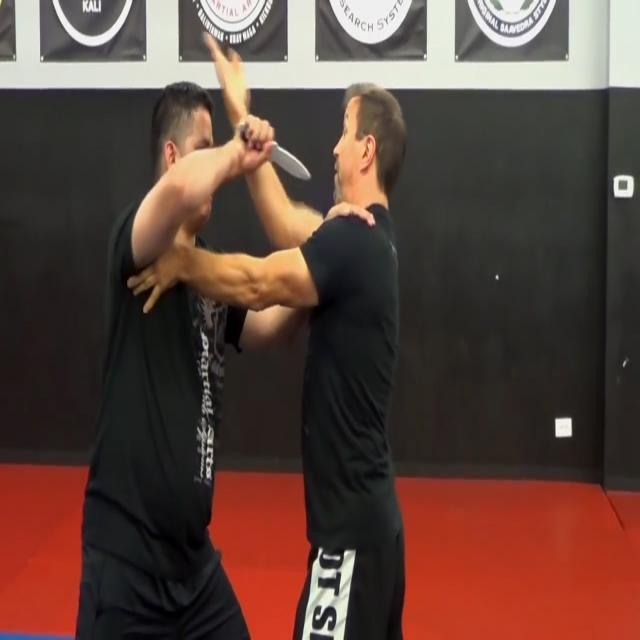knife: (269, 142, 315, 187)
